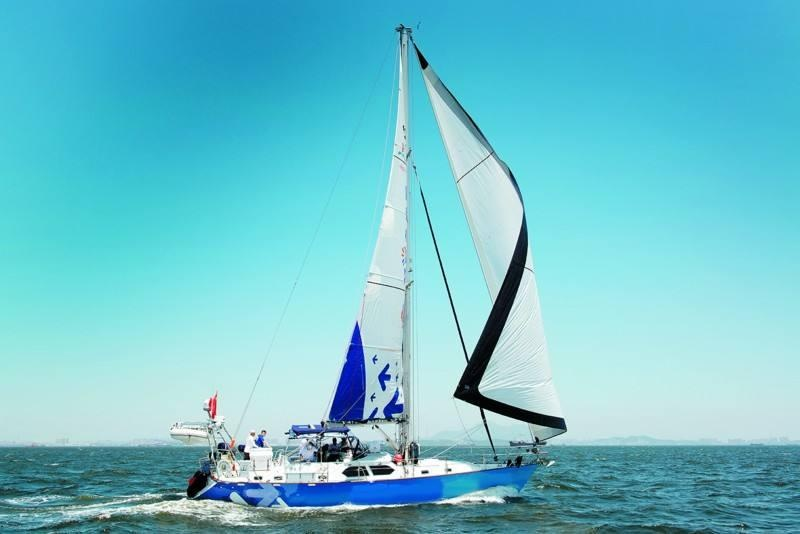fanchuan: (195, 12, 573, 506)
